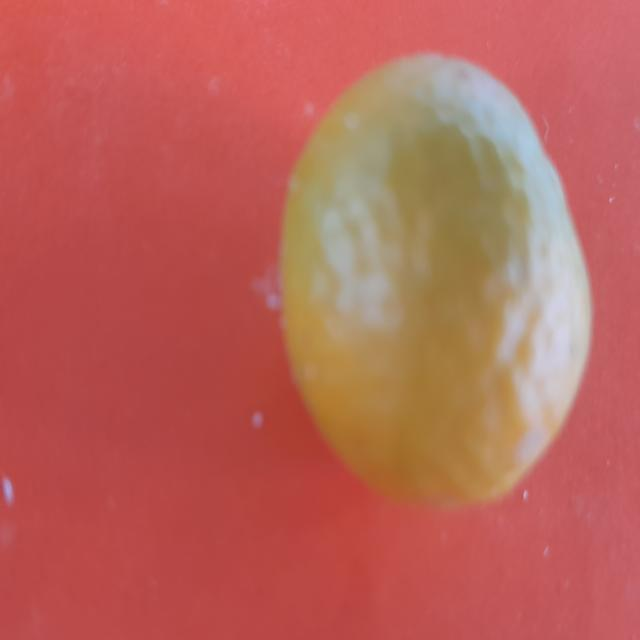greening: (277, 47, 590, 523)
